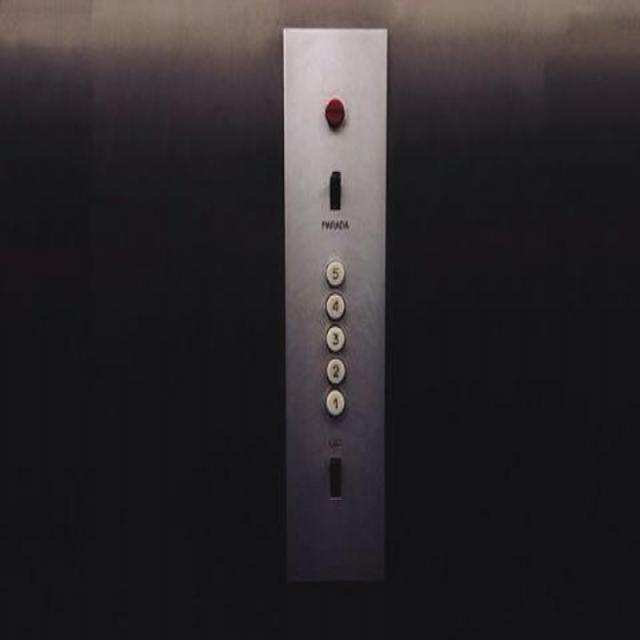1: (324, 387, 345, 416)
2: (325, 356, 345, 384)
3: (325, 323, 344, 352)
4: (324, 290, 344, 318)
5: (325, 260, 344, 285)
text_blur: (323, 95, 345, 128)
